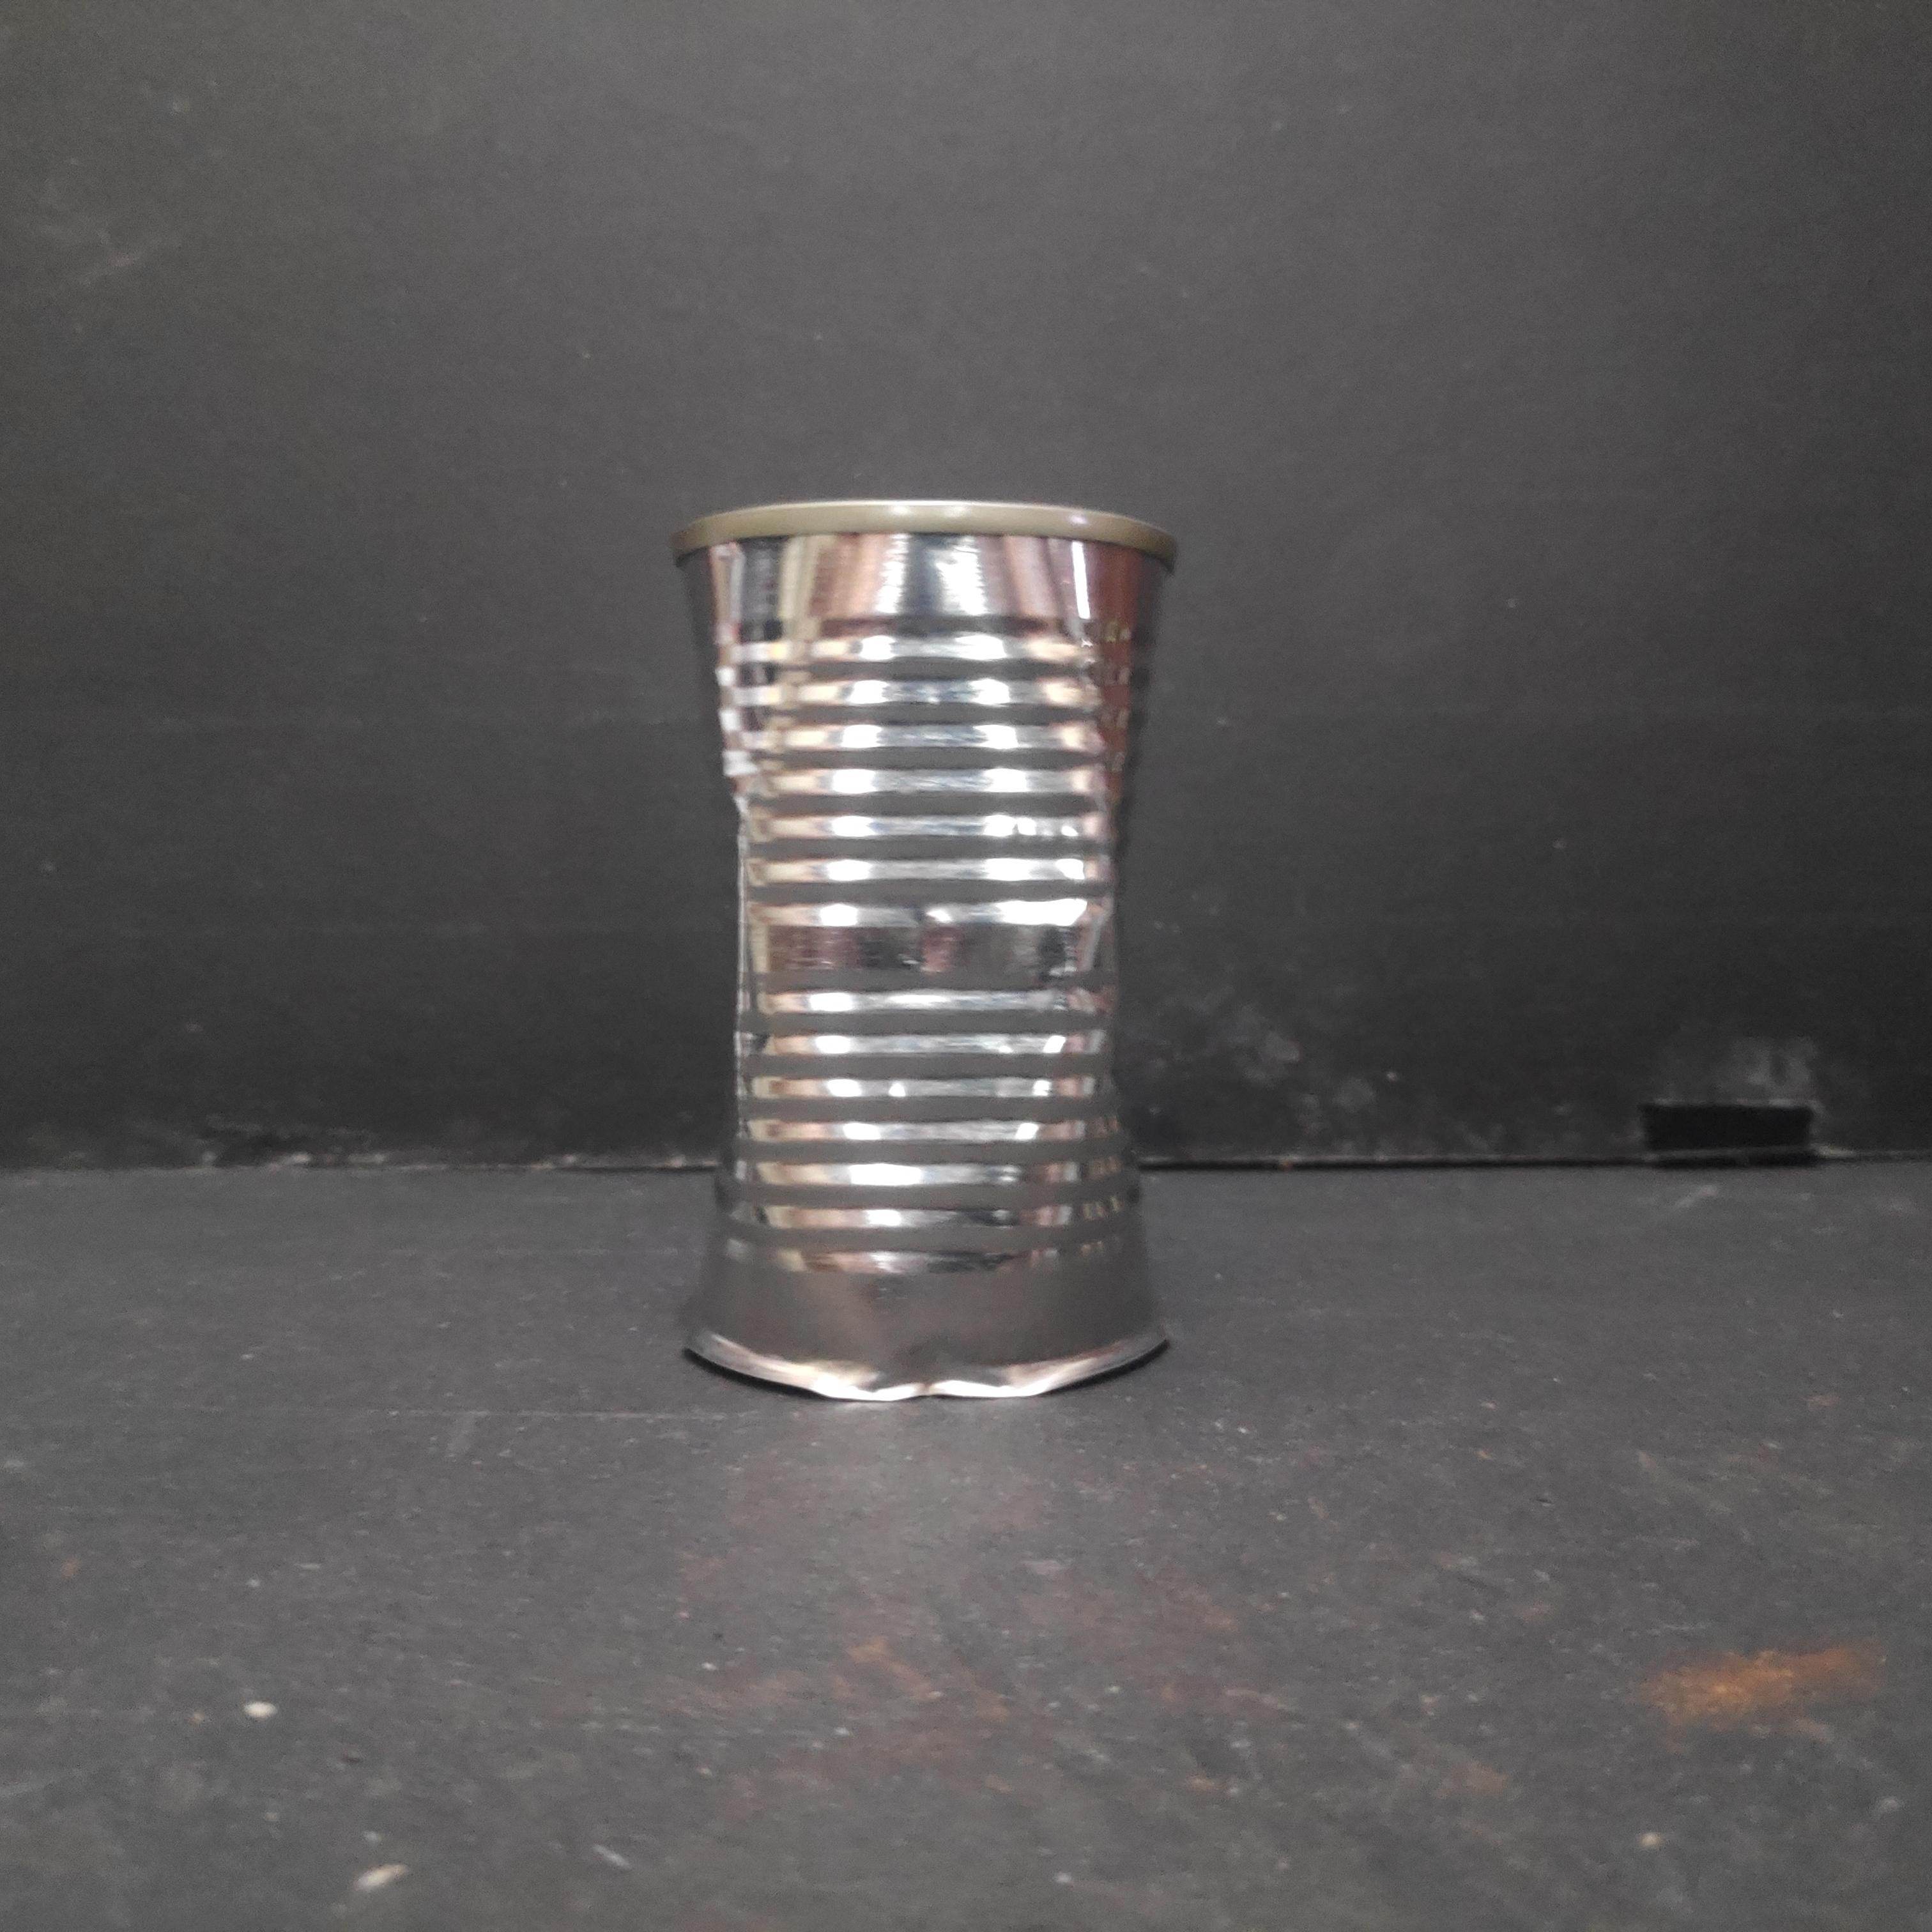Minor Defect: (662, 490, 1180, 1412)
